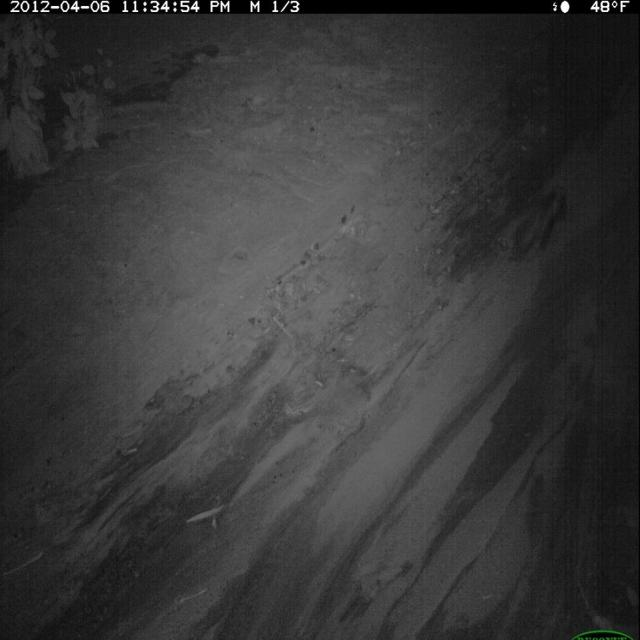skunk: (511, 184, 574, 269)
